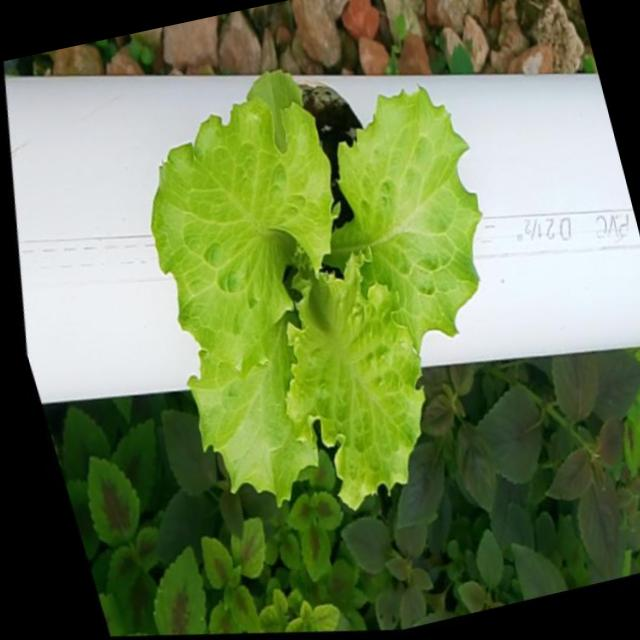Baby: (153, 82, 480, 516)
